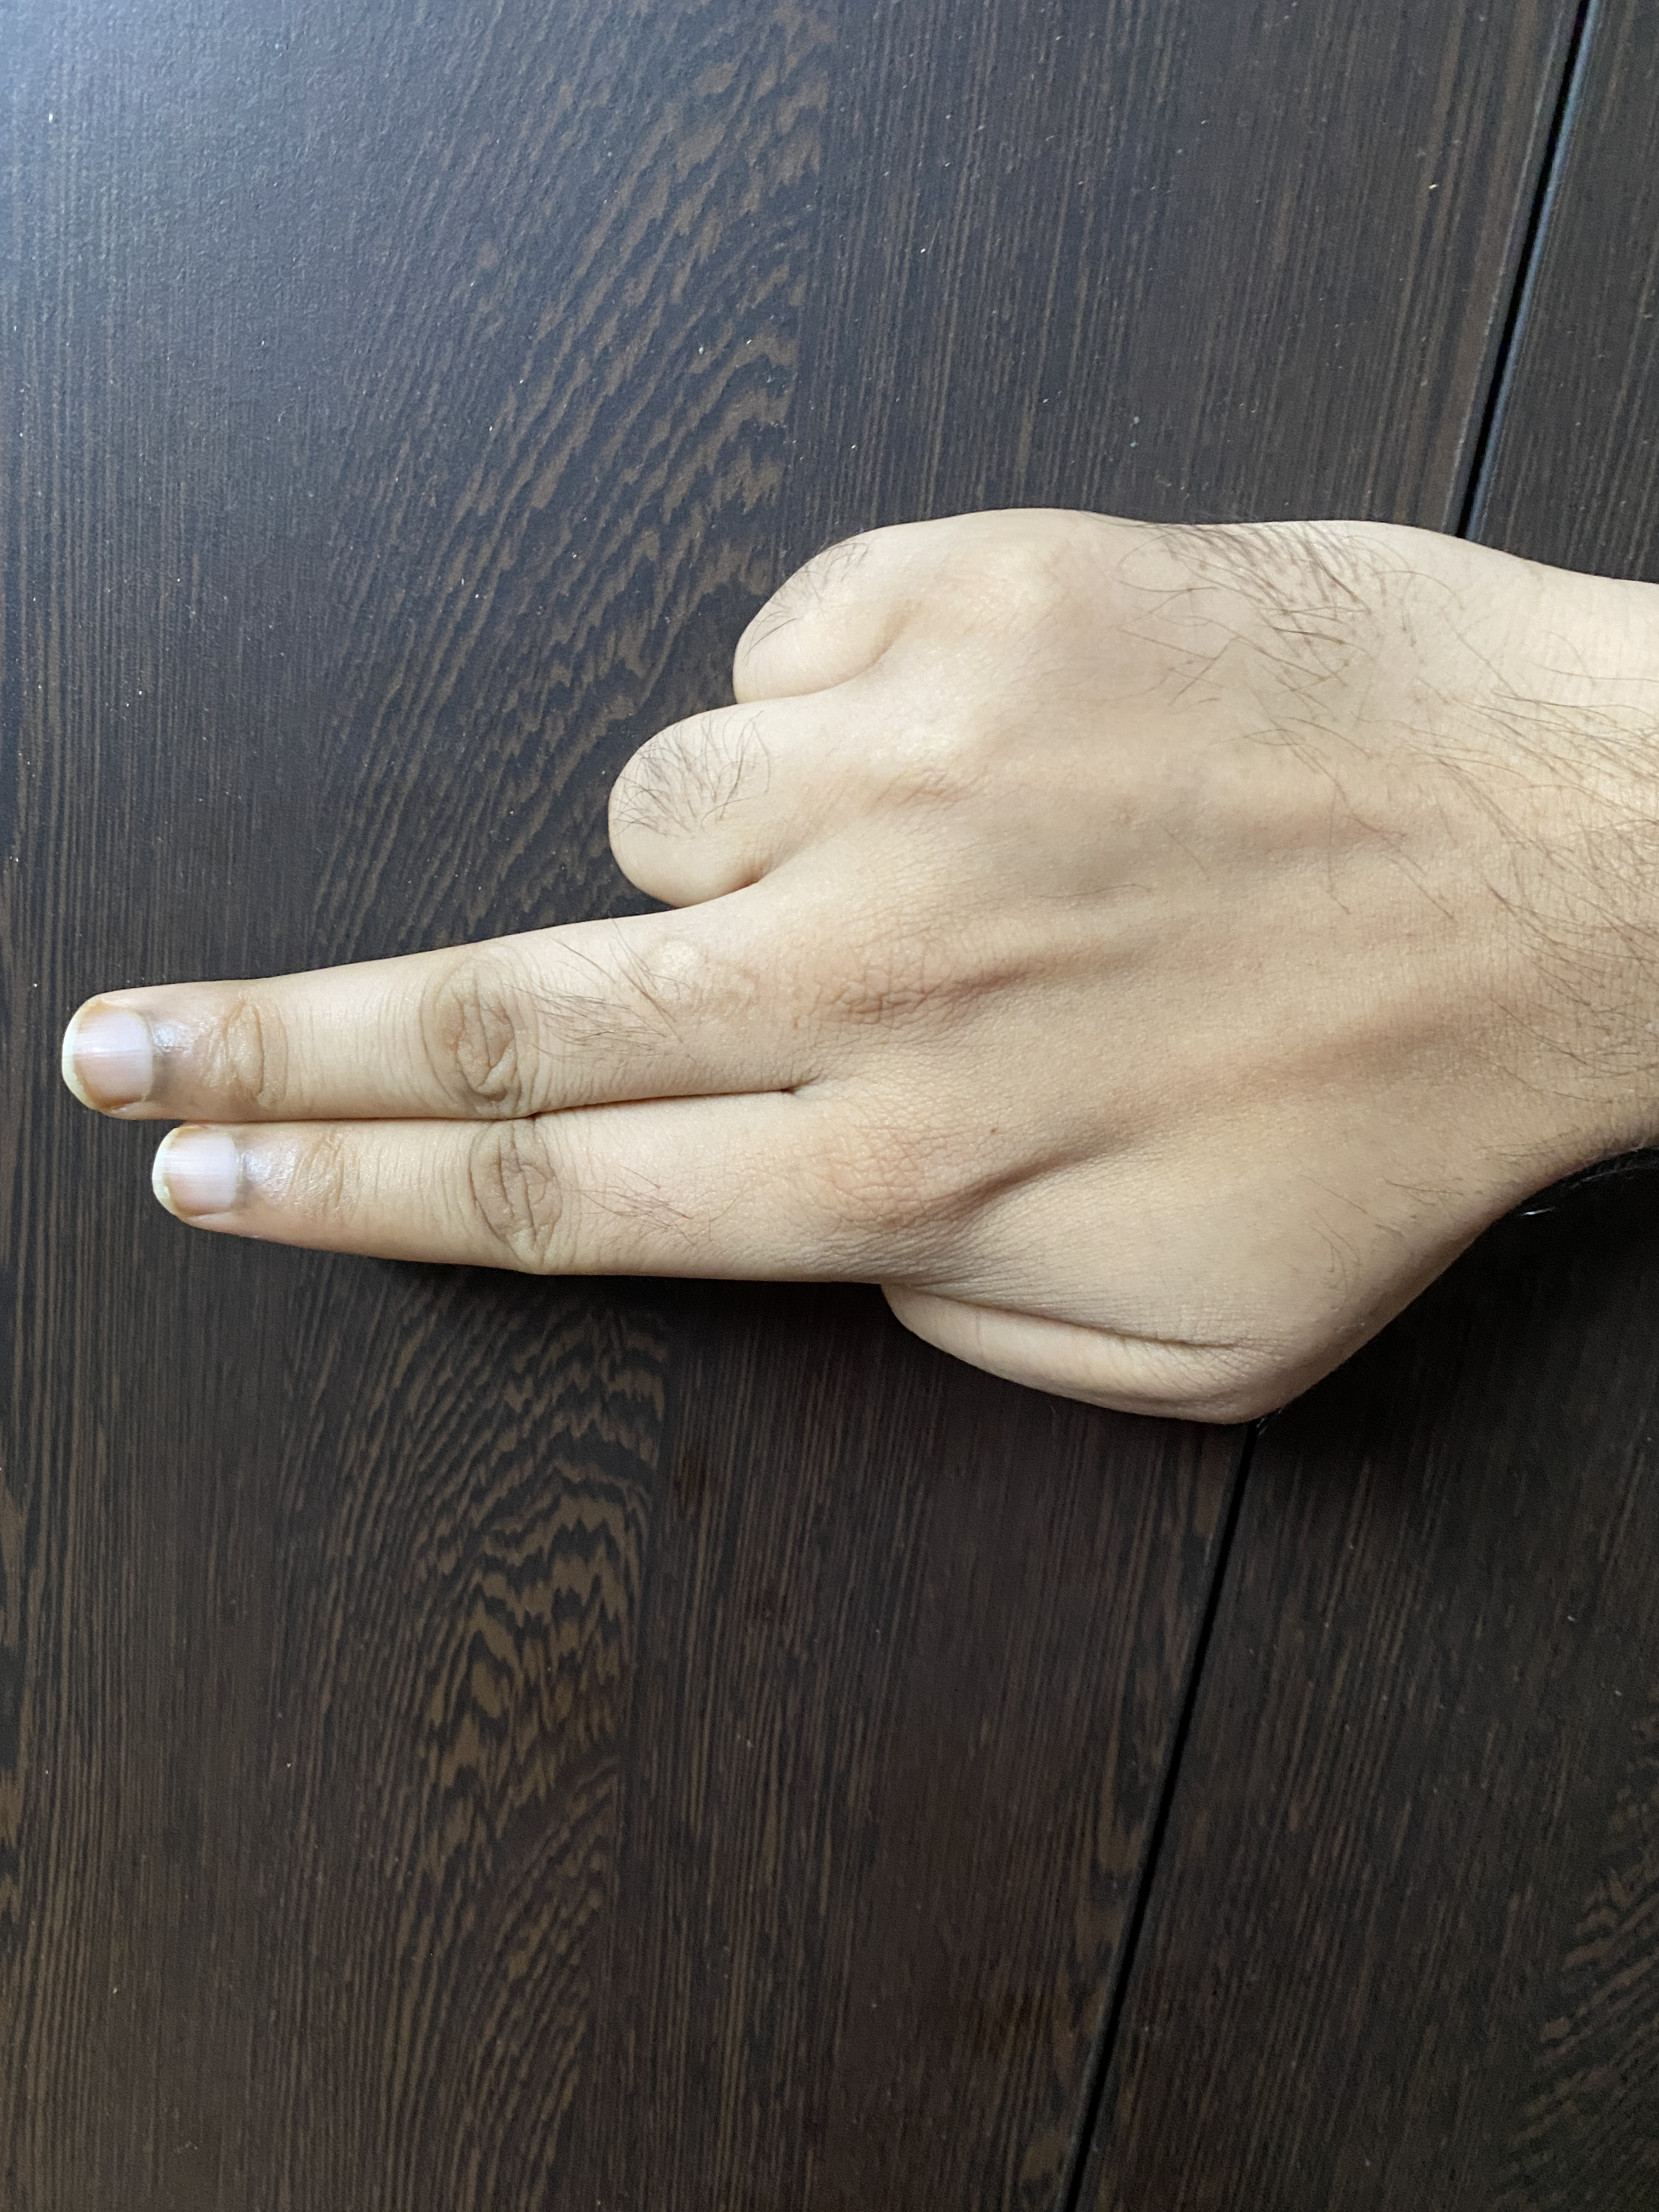right: (66, 265, 1659, 1703)
